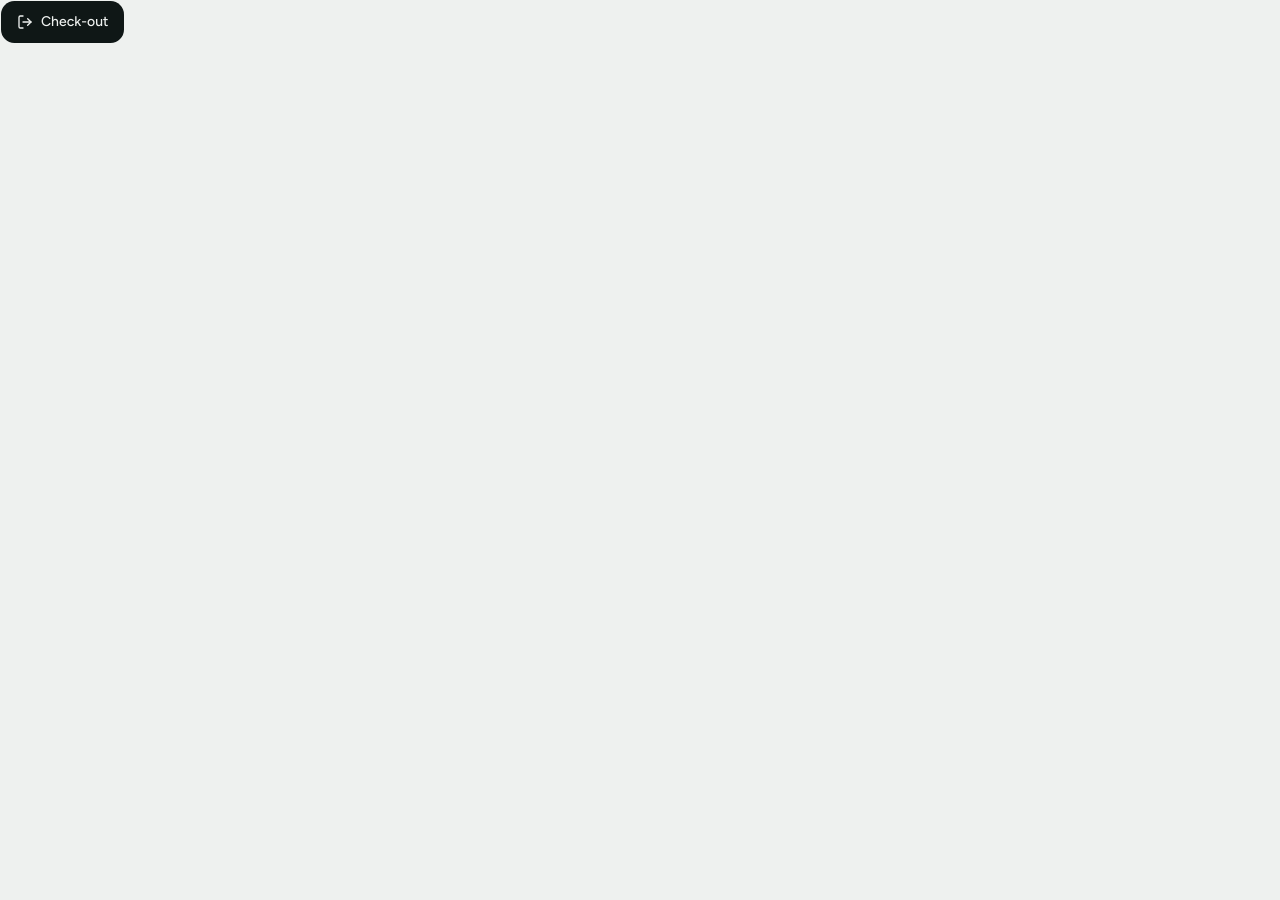
confirmação do check-out › sem o consumo carregado (Hoje, lista): não afirma que está quitada
The width and height of the screenshot is (1280, 900).
Click the button "Check-out": (63, 22) [0, 0, 125, 44]
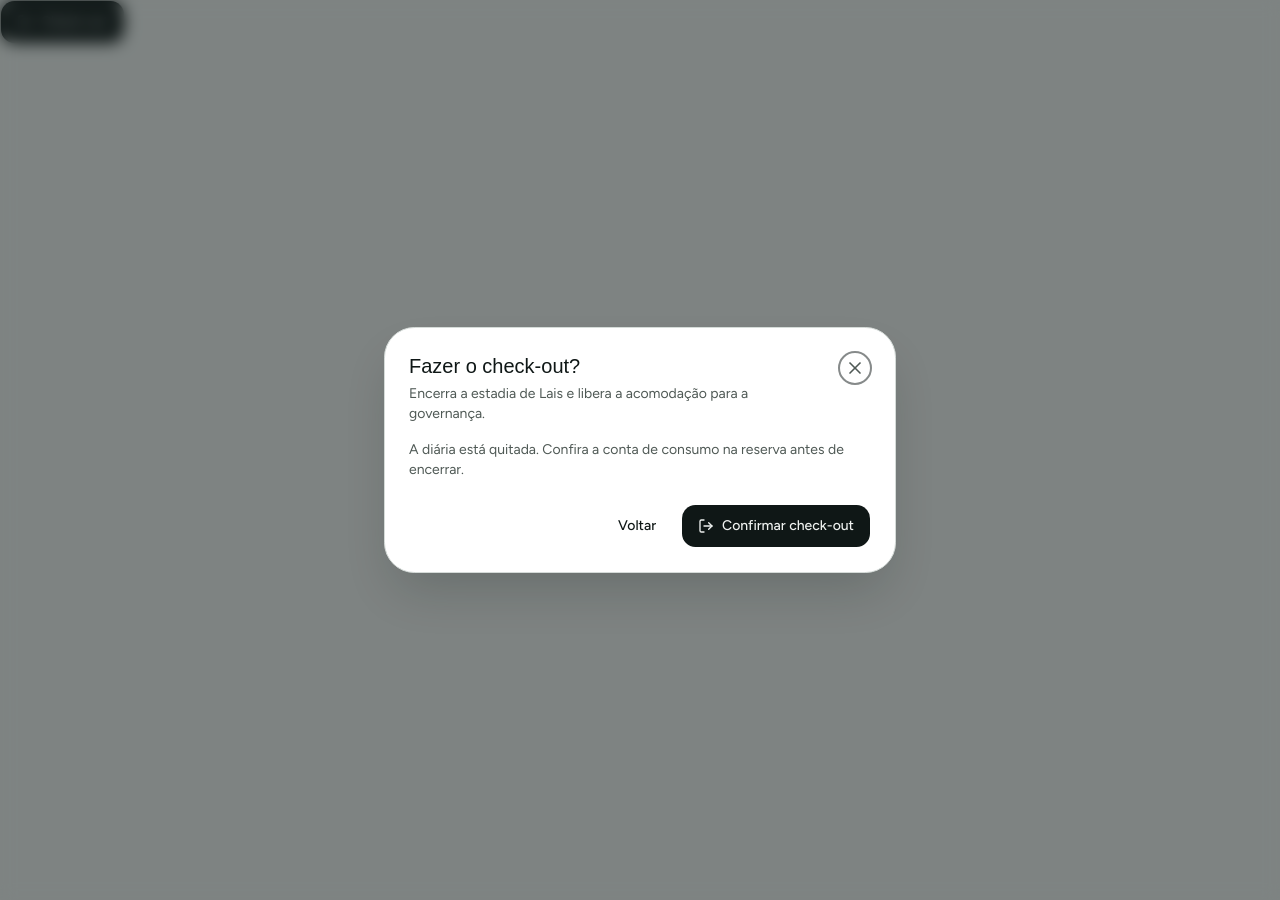
Now the text "Confira a conta de consumo" is shown, box [409, 441, 844, 478]
